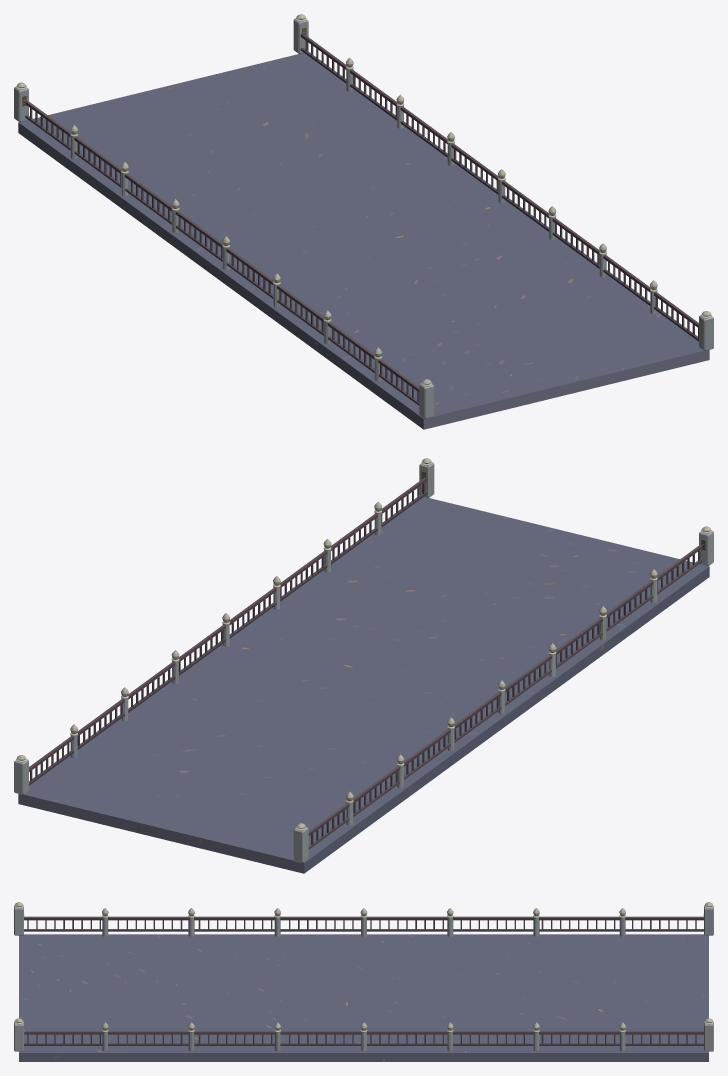
The model's file is ART_KyobashiBridge.lod.glb.
The picture shows the model from 3 angles, top to bottom: view 1: azimuth 30°, elevation 25°; view 2: azimuth 150°, elevation 25°; view 3: azimuth 270°, elevation 25°; orthographic projection. The views are drawn at different scales.
Parts seen in each view (by area): view 1: ART_KyobashiBridge; view 2: ART_KyobashiBridge; view 3: ART_KyobashiBridge.
Part boxes in pixels (x1,y1,x2,y2): ART_KyobashiBridge: (14,14,713,429); ART_KyobashiBridge: (14,458,713,873); ART_KyobashiBridge: (14,902,713,1061).
Bounding box in the file's own units: 14.2 × 2.32 × 34.9.
